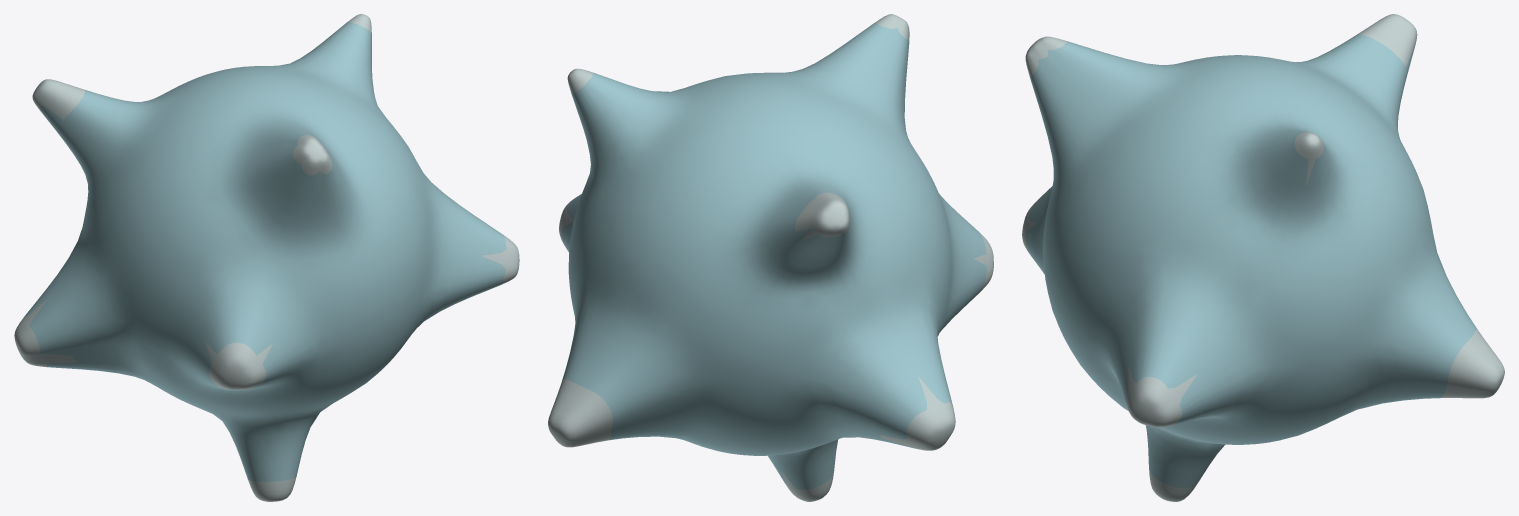
File: planet_crystal.repacked.glb
3 renders of one model, left to right at view 1: azimuth 30°, elevation 25°; view 2: azimuth 150°, elevation 25°; view 3: azimuth 270°, elevation 25°, orthographic. The views are drawn at different scales.
Parts seen in each view (by area): view 1: Planet_4; view 2: Planet_4; view 3: Planet_4.
Boxes of the visible parts, x1,y1,x2,y2 form: Planet_4: (14, 14, 519, 501); Planet_4: (548, 14, 993, 501); Planet_4: (1022, 14, 1504, 501).
Size of the model in its own units: 4.49 by 4.09 by 3.97.
Materials: 1 (1 with a texture image).
